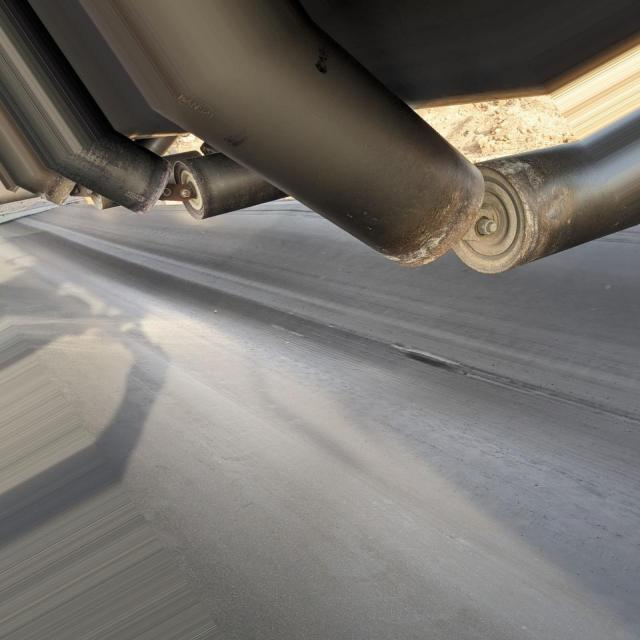Roller: (160, 27, 484, 268), (449, 138, 616, 273), (62, 132, 171, 215), (173, 152, 287, 217)
impact damage: (400, 345, 469, 373)
